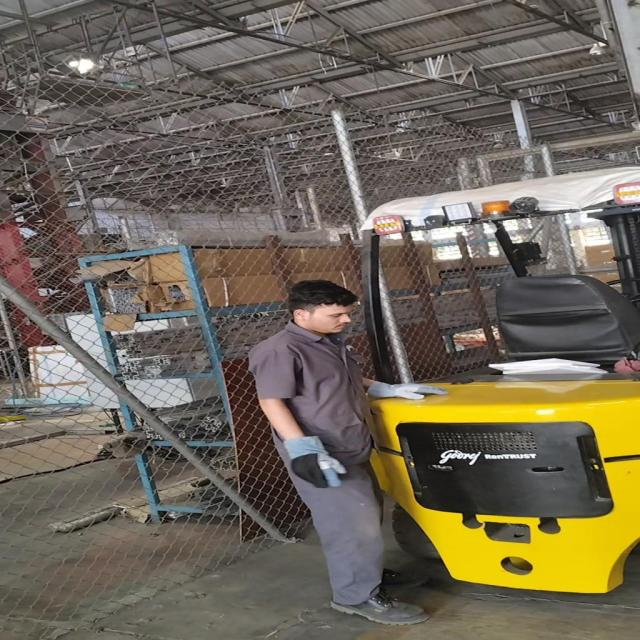Gloves-Detection: (278, 436, 344, 490), (365, 378, 455, 408)
